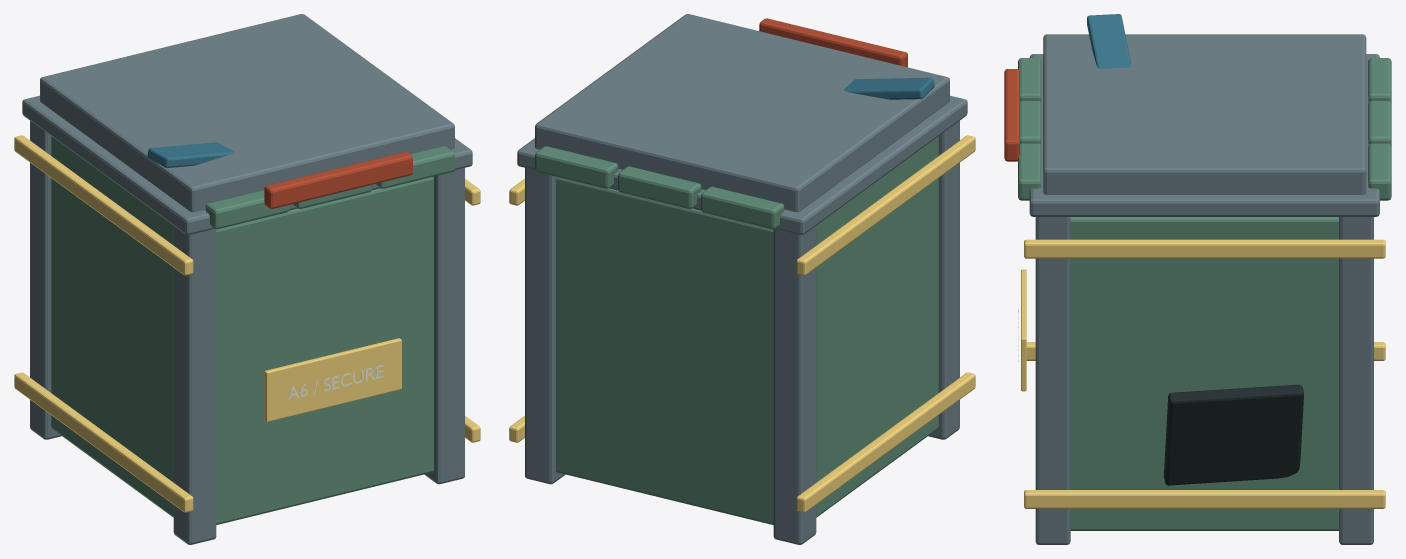
The model's file is secure_case_d1.glb.
3 views of the same model, side by side, from view 1: azimuth 30°, elevation 25°; view 2: azimuth 150°, elevation 25°; view 3: azimuth 270°, elevation 25° (orthographic). The views are drawn at different scales.
Visible parts, largest first — view 1: Crate shell.010, Reinforced lid.004, Corner post.040, Corner post.042, Identification placard.010, Corner post.041, Solid crate lid.010, Vertical tie band.040, Vertical tie band.041, Lock bar.004, Lid slat.060, Peeled lid corner.003 (+3 smaller); view 2: Crate shell.010, Reinforced lid.004, Corner post.041, Corner post.043, Corner post.040, Solid crate lid.010, Vertical tie band.040, Vertical tie band.041, Lock bar.004, Lid slat.065, Lid slat.063, Lid slat.064 (+1 smaller); view 3: Crate shell.010, Reinforced lid.004, Runover dent.003, Corner post.042, Corner post.043, Solid crate lid.010, Vertical tie band.043, Vertical tie band.042, Peeled lid corner.003, Lock bar.004, Lid slat.065, Lid slat.062 (+5 smaller).
Part boxes in pixels (x1,y1,x2,y2): Crate shell.010: (51, 136, 433, 524); Reinforced lid.004: (40, 14, 454, 212); Corner post.040: (173, 226, 216, 544); Corner post.042: (424, 168, 464, 484); Identification placard.010: (264, 338, 401, 421); Corner post.041: (30, 121, 61, 439); Solid crate lid.010: (22, 95, 472, 234); Vertical tie band.040: (14, 372, 193, 512); Vertical tie band.041: (14, 135, 193, 275); Lock bar.004: (264, 152, 412, 208); Lid slat.060: (205, 190, 288, 229); Peeled lid corner.003: (147, 142, 234, 167); Crate shell.010: (556, 136, 938, 524); Reinforced lid.004: (535, 14, 949, 212); Corner post.041: (773, 226, 816, 544); Corner post.043: (525, 168, 565, 484); Corner post.040: (928, 121, 959, 439); Solid crate lid.010: (517, 95, 967, 234); Vertical tie band.040: (796, 372, 975, 512); Vertical tie band.041: (796, 135, 975, 275); Lock bar.004: (759, 18, 907, 67); Lid slat.065: (535, 146, 618, 188); Lid slat.063: (701, 186, 784, 229); Lid slat.064: (618, 166, 701, 208); Crate shell.010: (1070, 217, 1338, 530); Reinforced lid.004: (1043, 34, 1366, 194); Runover dent.003: (1163, 384, 1303, 485); Corner post.042: (1035, 217, 1070, 544); Corner post.043: (1339, 217, 1373, 544); Solid crate lid.010: (1029, 54, 1379, 216); Vertical tie band.043: (1024, 239, 1385, 258); Vertical tie band.042: (1024, 490, 1385, 508); Peeled lid corner.003: (1087, 14, 1131, 68); Lock bar.004: (1004, 69, 1019, 161); Lid slat.065: (1368, 143, 1391, 200); Lid slat.062: (1018, 143, 1041, 200).
Bounding box in the file's own units: 2 × 2.21 × 1.99.
